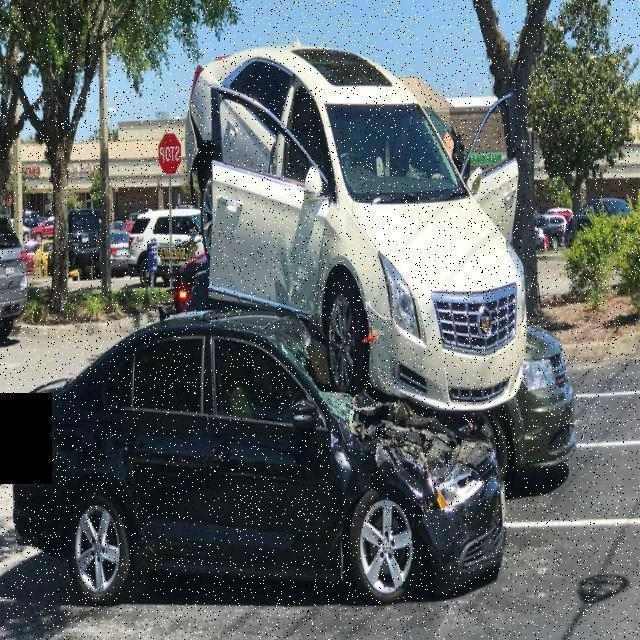accident: (10, 21, 578, 589)
